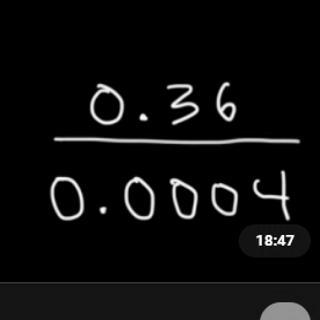.: (95, 199, 111, 222), (134, 108, 150, 123), (272, 234, 278, 241), (273, 241, 278, 248)
0: (43, 172, 92, 224), (84, 78, 132, 129), (119, 170, 156, 224), (165, 171, 202, 225), (205, 174, 241, 227)
1: (254, 233, 263, 249)
3: (156, 76, 202, 133)
4: (248, 165, 294, 222), (277, 233, 285, 251)
6: (213, 76, 246, 129)
7: (285, 232, 296, 249)
8: (264, 233, 274, 250)
